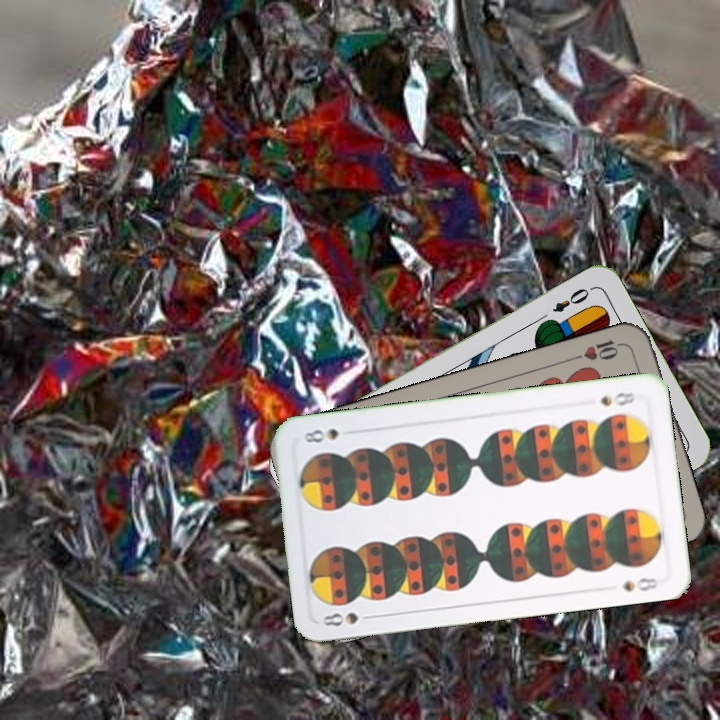EO: (548, 284, 592, 315)
H10: (569, 335, 628, 363)
S8: (318, 608, 378, 629), (596, 388, 637, 409)
